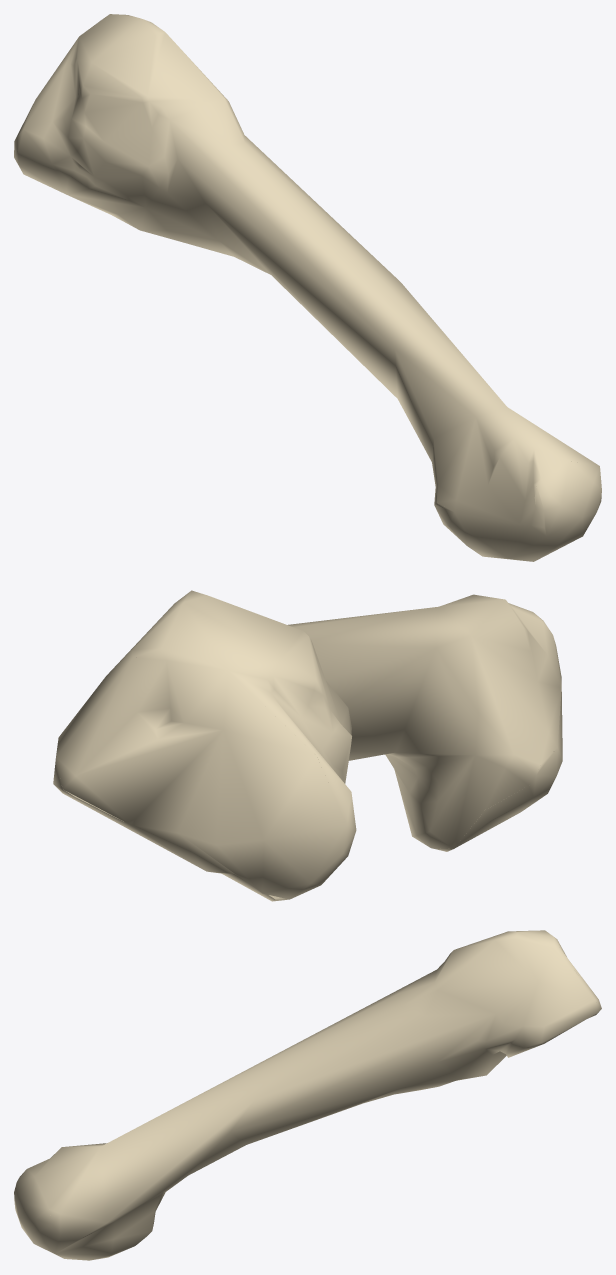
The model's file is esqueleto-fourth-metatarsal-bone-l.glb.
The picture shows the model from 3 angles, top to bottom: view 1: azimuth 30°, elevation 25°; view 2: azimuth 150°, elevation 25°; view 3: azimuth 270°, elevation 25°; orthographic projection. The views are drawn at different scales.
Visible parts, largest first — view 1: Fourth metatarsal bone.l; view 2: Fourth metatarsal bone.l; view 3: Fourth metatarsal bone.l.
Boxes of the visible parts, box(x1,y1,x2,y2) form: Fourth metatarsal bone.l: box(14, 14, 601, 561); Fourth metatarsal bone.l: box(53, 590, 562, 901); Fourth metatarsal bone.l: box(14, 930, 601, 1260).
Bounding box in the file's own units: 0.0299 × 0.037 × 0.0684.
